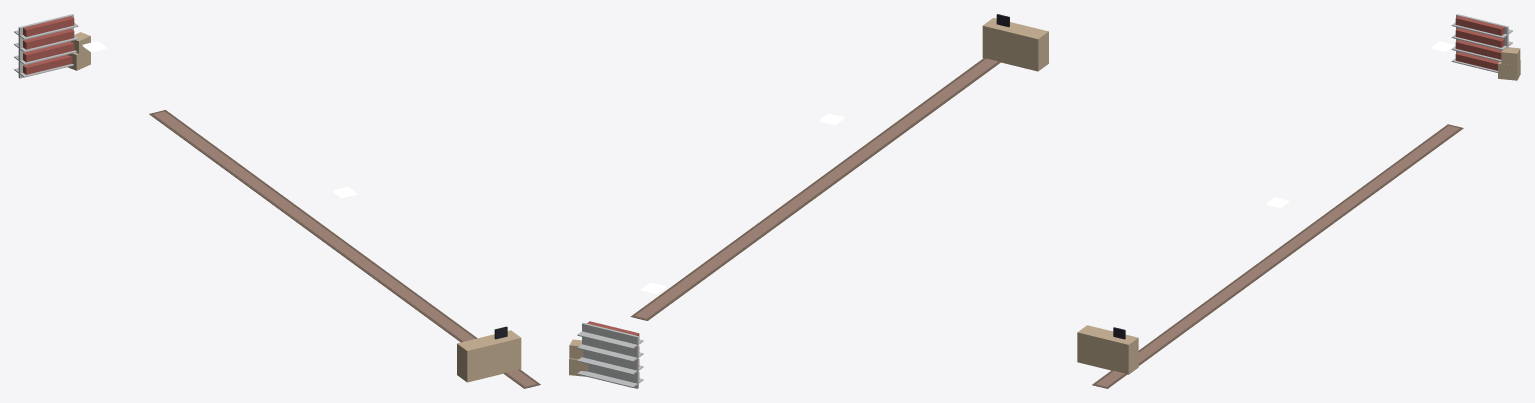
The model's file is fine-s0.glb.
3 renders of one model, left to right at view 1: azimuth 30°, elevation 25°; view 2: azimuth 150°, elevation 25°; view 3: azimuth 330°, elevation 25°, orthographic. The views are drawn at different scales.
Parts seen in each view (by area): view 1: soft-s0, shelving.000, shop-counter.000, cardboard-box.000; view 2: soft-s0, shelving.000, shop-counter.000, cardboard-box.000; view 3: soft-s0, shelving.000, shop-counter.000, cardboard-box.000.
Boxes of the visible parts, x1,y1,x2,y2 form: soft-s0: [149, 110, 540, 388]; shelving.000: [14, 14, 78, 78]; shop-counter.000: [457, 326, 521, 382]; cardboard-box.000: [67, 32, 90, 70]; soft-s0: [630, 58, 1000, 320]; shelving.000: [577, 321, 643, 388]; shop-counter.000: [982, 14, 1048, 71]; cardboard-box.000: [569, 339, 588, 376]; soft-s0: [1092, 124, 1463, 388]; shelving.000: [1451, 14, 1512, 72]; shop-counter.000: [1077, 325, 1138, 374]; cardboard-box.000: [1498, 47, 1520, 80].
Bounding box in the file's own units: 2.6 × 1.84 × 25.9.
